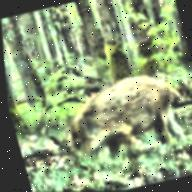boar: (35, 35, 192, 184)
